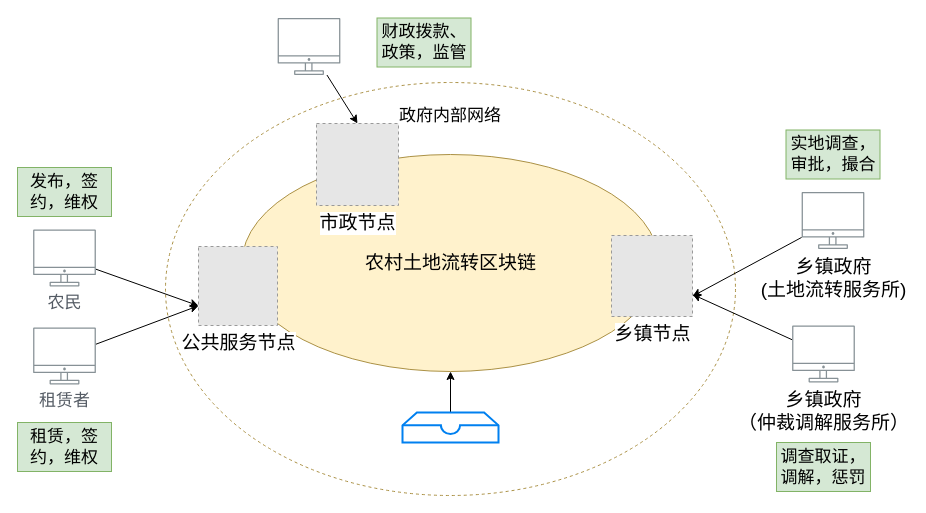
This 926x513 diagram has some shape labels left out. Grey dashed boxes stand in for pictures. The centre of each missing label's shape, as x and y in pixels:
"分布式对象存储 （取证视频、图片等哈希上链）" belongs at [450,427].
"市级监管部门" belongs at [308,46].
